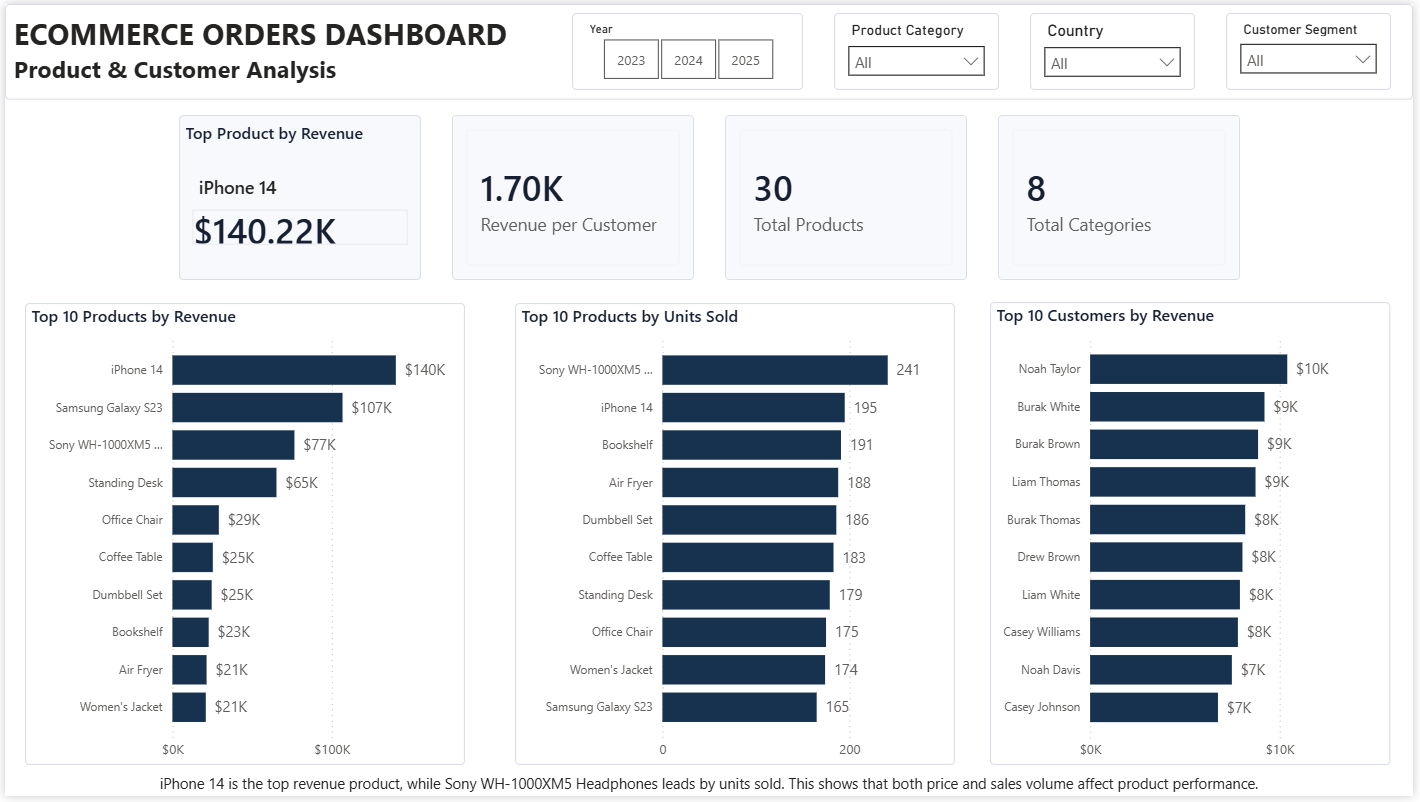

This screenshot's page, from the dashboard's own definition file:
{"tool":"powerbi","page":{"name":"2-Product & Customer Analysis","canvas":[1280,720],"ordinal":1},"visuals":[{"type":"cardVisual","title":"Top Product by Revenue","fields":{"Rows":["ecommerce_clean.product_name"],"Data":["Measures...Total Revenue"]},"box":[157.8,101.2,220,150],"z":0,"group":"g1"},{"type":"barChart","title":"Top 10 Products by Revenue","fields":{"Category":["ecommerce_clean.product_name"],"Y":["Measures...Total Revenue"]},"box":[17.8,272.2,400,420],"z":0},{"type":"cardVisual","fields":{"Data":["Measures...Revenue per Customer"]},"box":[405.9,101.2,220,150],"z":1000,"group":"g1"},{"type":"barChart","title":"Top 10 Products by Units Sold","fields":{"Category":["ecommerce_clean.product_name"],"Y":["Measures...Total Units Sold"]},"box":[463.3,272.2,400,420],"z":1000},{"type":"textbox","box":[0,0,1280,86.7],"z":2000},{"type":"cardVisual","fields":{"Data":["Measures...Total Products"]},"box":[654.1,101.2,220,150],"z":2000,"group":"g1"},{"type":"cardVisual","fields":{"Data":["Measures...Total Categories"]},"box":[902.2,101.2,220,150],"z":3000,"group":"g1"},{"type":"clusteredBarChart","title":"Top 10 Customers by Revenue","fields":{"Category":["ecommerce_clean.customer_name"],"Y":["Measures...Total Revenue"]},"box":[895.6,271.1,364.4,421.1],"z":3000},{"type":"group","id":"g1","title":"Group 1","box":[157.8,101.2,964.4,150],"z":4000},{"type":"slicer","fields":{"Values":["ecommerce_clean.product_category"]},"box":[753.7,7.9,150,70],"z":5000},{"type":"slicer","fields":{"Values":["ecommerce_clean.customer_segment"]},"box":[1110,7.9,150,70],"z":6000},{"type":"slicer","fields":{"Values":["ecommerce_clean.country"]},"box":[931.9,7.9,150,70],"z":7000},{"type":"slicer","fields":{"Values":["Date Table.Year"]},"box":[515.6,7.9,210,70],"z":8000},{"type":"textbox","box":[0,700,1280,20],"z":9000}]}

Visuals, with their boxes in screenshot pixels (x1, y1, x2, y2), scaled from the page's 1280x720 canvas onto the 1420x802 screenshot:
"Top Product by Revenue" cardVisual: (175, 113, 419, 280)
"Top 10 Products by Revenue" barChart: (20, 303, 463, 771)
cardVisual - Measures...Revenue per Customer: (450, 113, 694, 280)
"Top 10 Products by Units Sold" barChart: (514, 303, 958, 771)
textbox: (0, 0, 1419, 97)
cardVisual - Measures...Total Products: (726, 113, 970, 280)
cardVisual - Measures...Total Categories: (1001, 113, 1245, 280)
"Top 10 Customers by Revenue" clusteredBarChart: (994, 302, 1398, 771)
"Group 1" group: (175, 113, 1245, 280)
slicer - ecommerce_clean.product_category: (836, 9, 1003, 87)
slicer - ecommerce_clean.customer_segment: (1231, 9, 1398, 87)
slicer - ecommerce_clean.country: (1034, 9, 1200, 87)
slicer - Date Table.Year: (572, 9, 805, 87)
textbox: (0, 780, 1419, 801)
